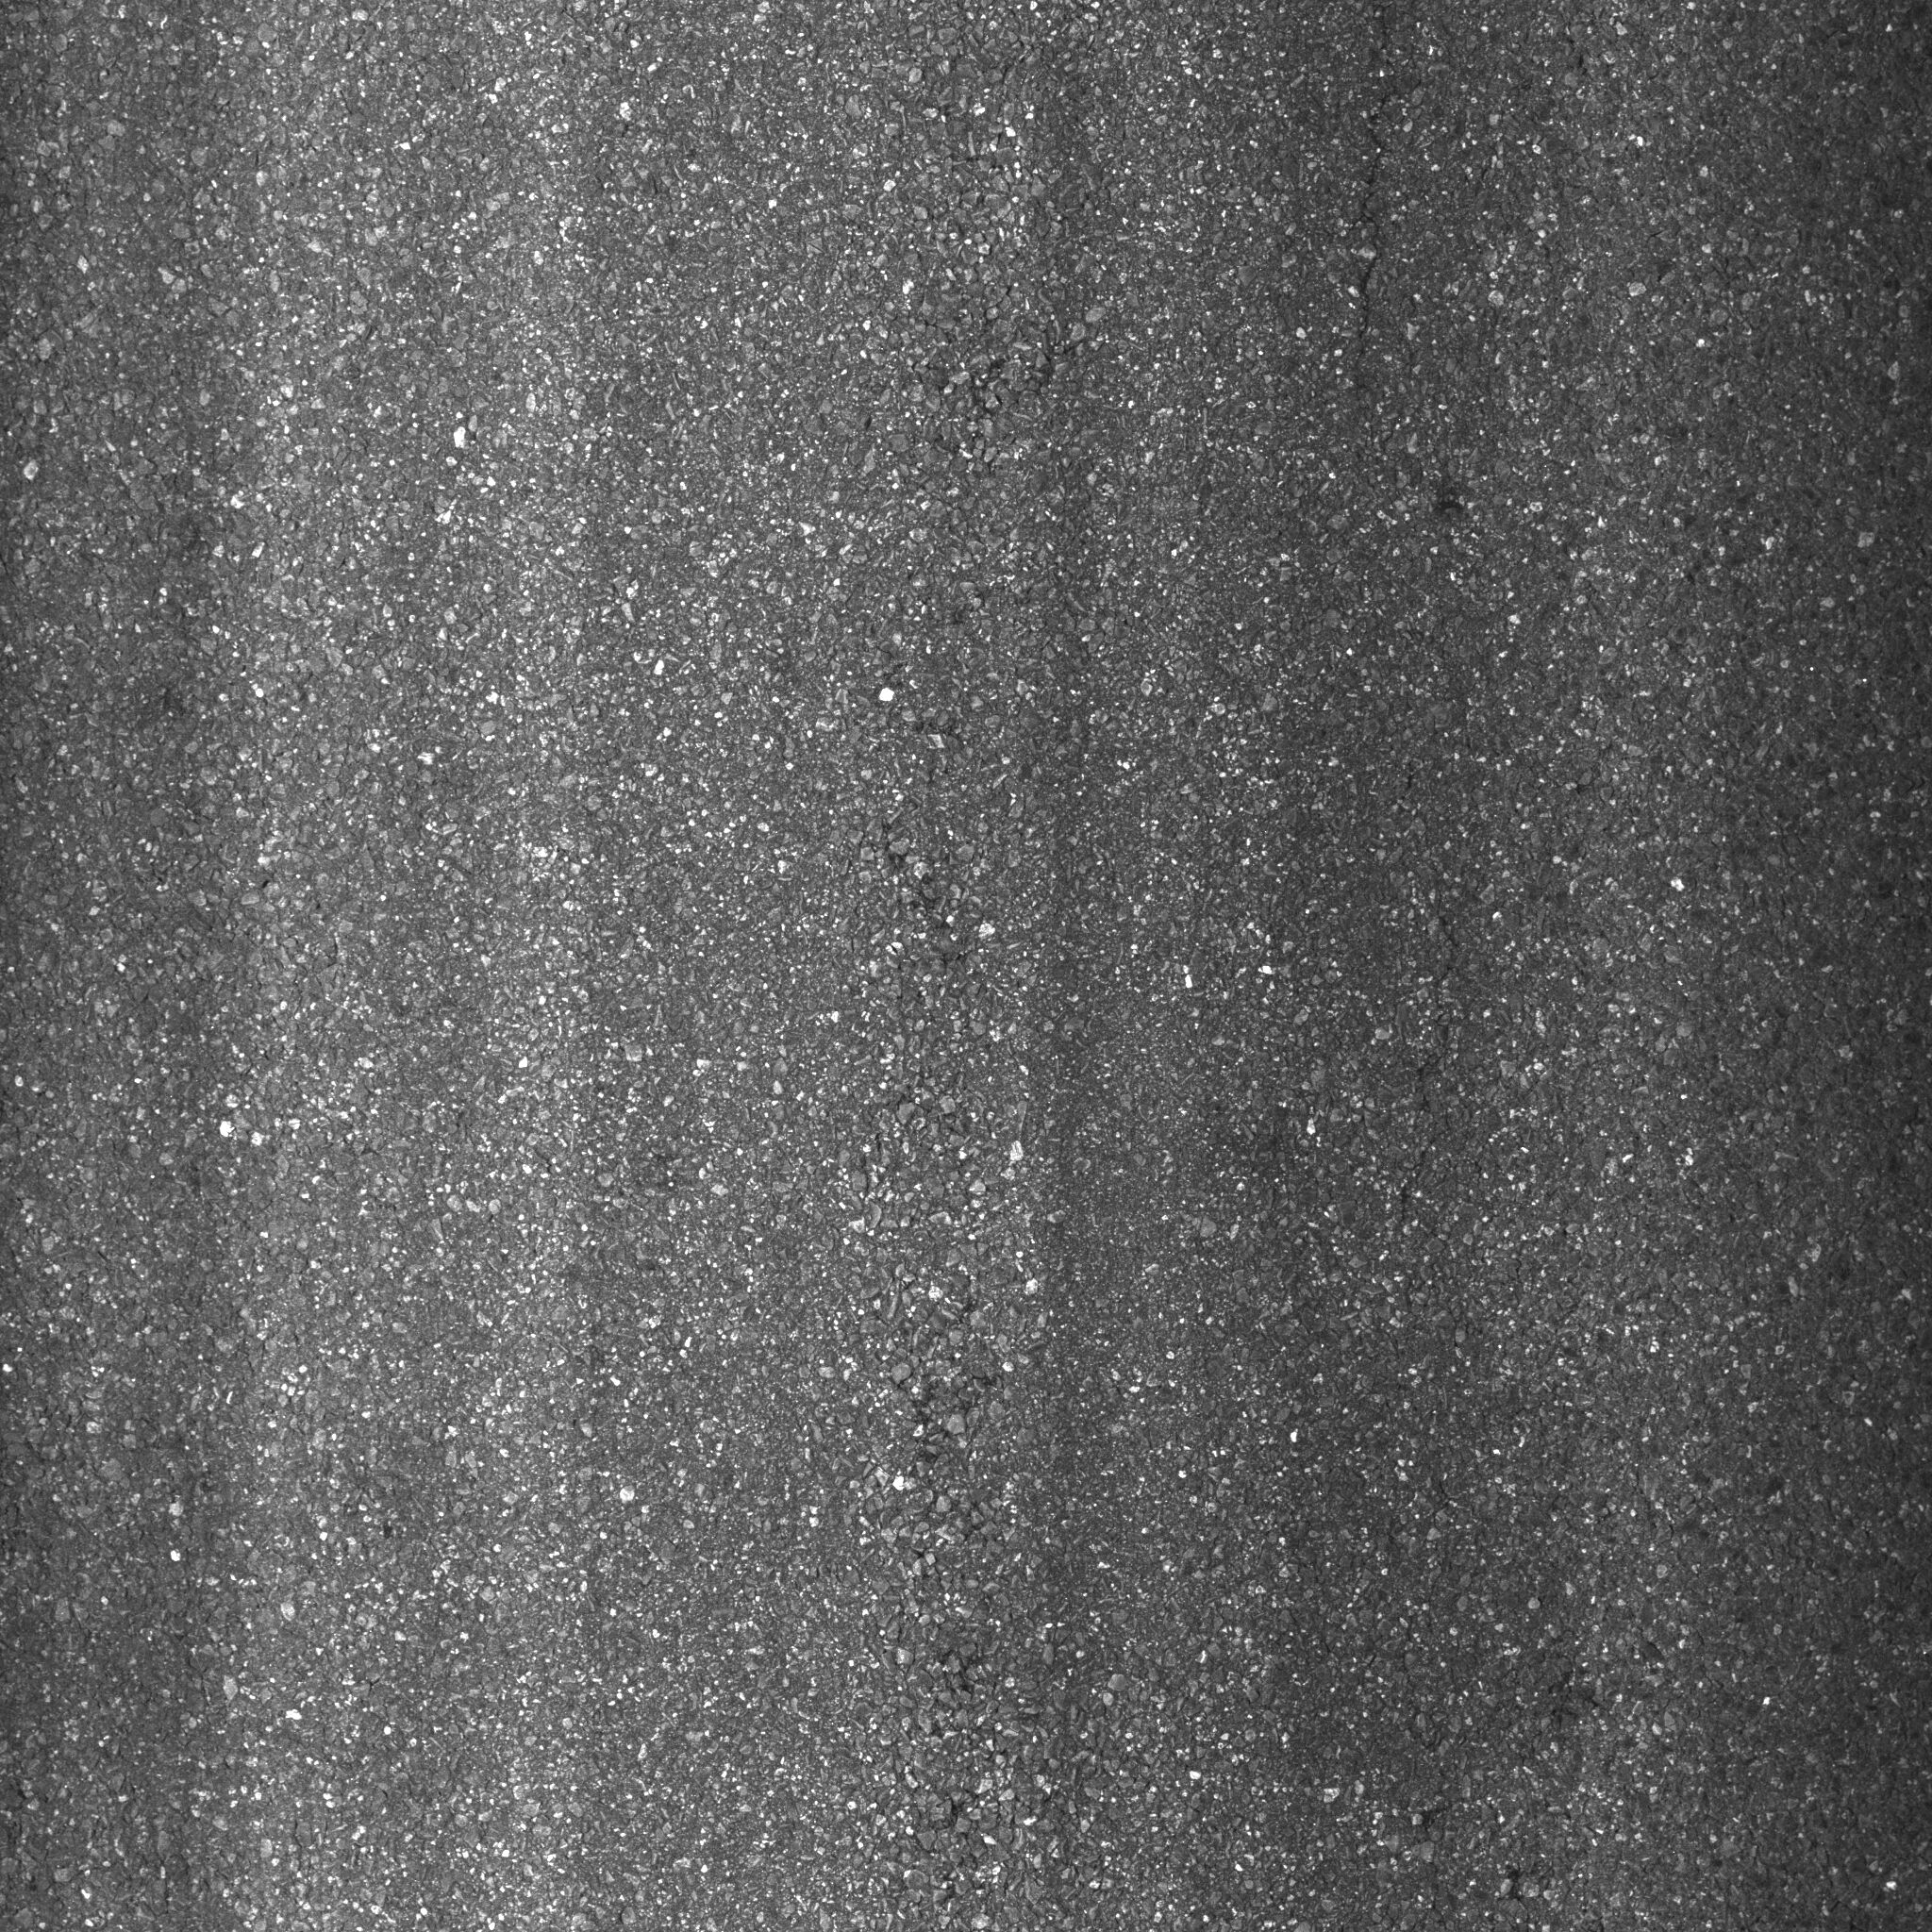longitudinal: (833, 559, 1016, 1780), (1399, 821, 1490, 1309)
